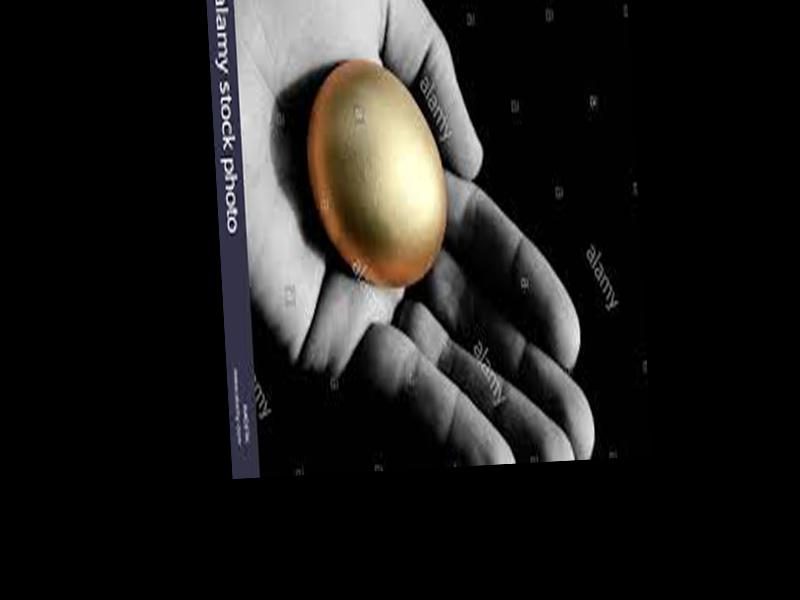Eggs: (305, 58, 450, 292)
